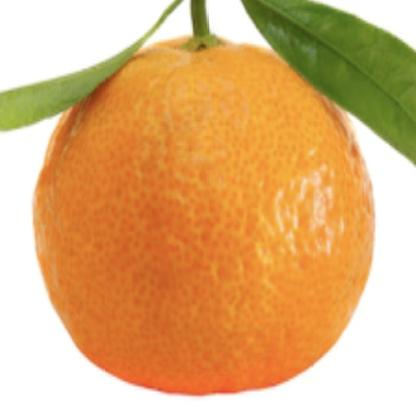fresh: (31, 32, 381, 393)
